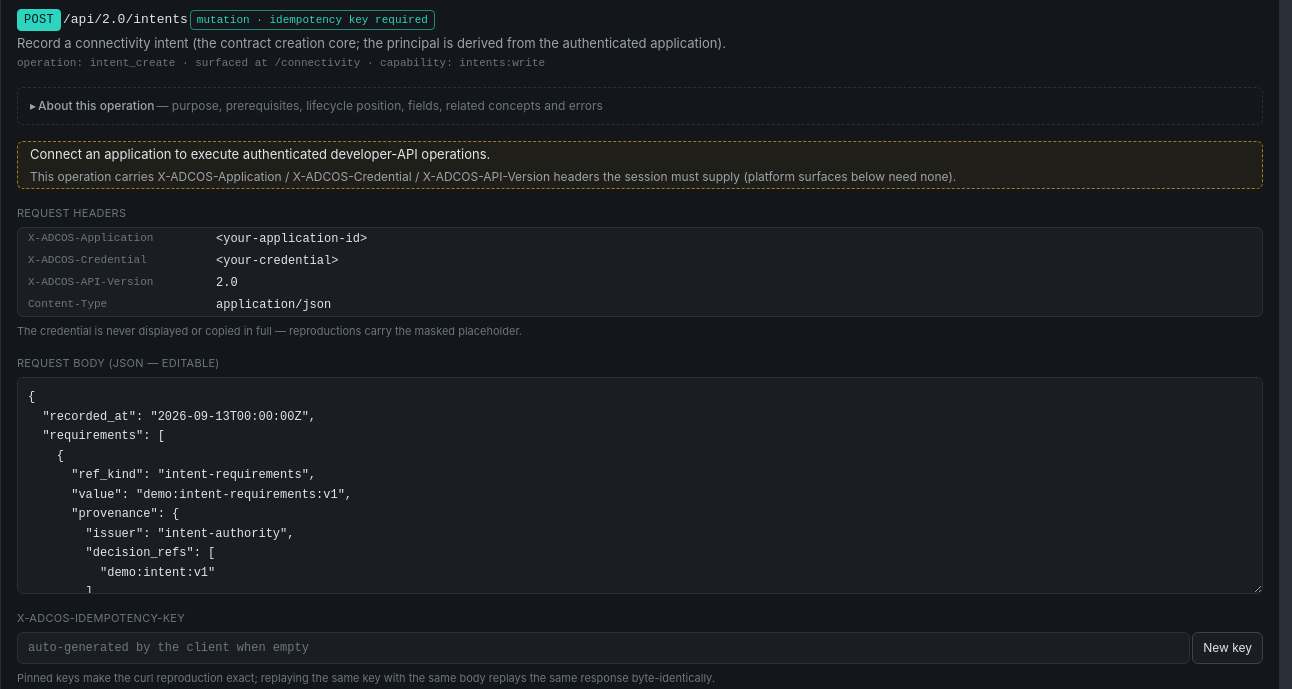
Test case: OperationDetail — the V2 education affordance › expanding shows the REAL registry education of intent_create (purpose, fields, curl, links)
Click the button with test id "operation-education-trigger". click: (96, 106)
box: left=18, top=88, right=1262, bottom=124
(page scrolled)
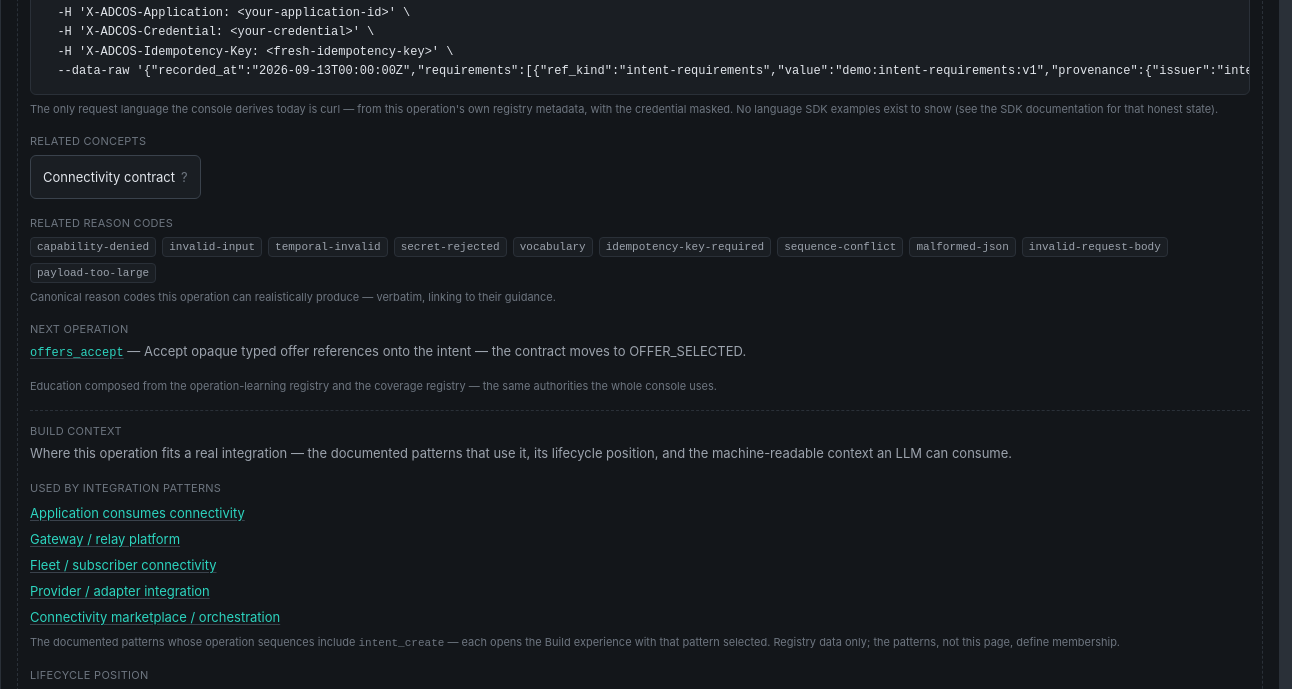
Check: the button with aria-label "What is: Connectivity contract" is shown, box left=30, top=155, right=201, bottom=199
Check: the link "offers_accept" is shown, box left=30, top=346, right=124, bottom=360
